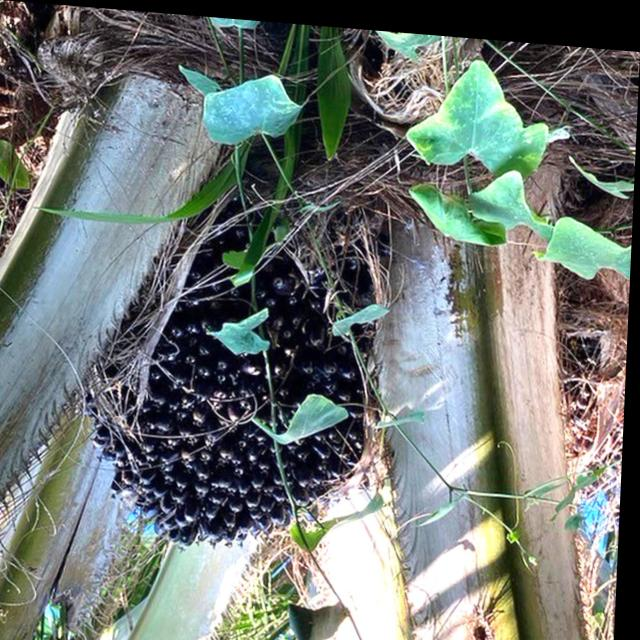almost: (76, 194, 382, 569)
